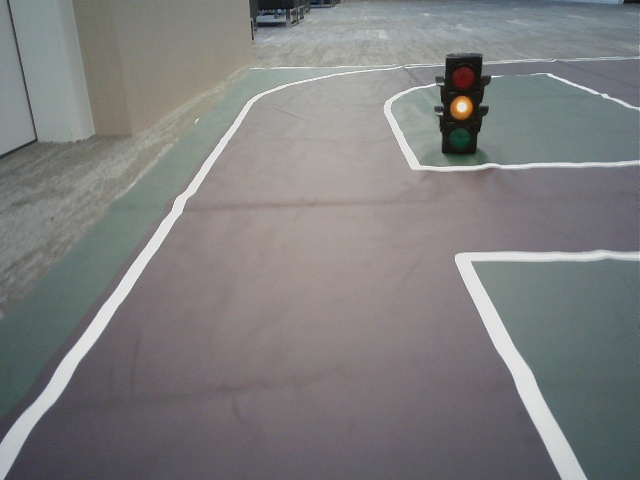yellow: (442, 60, 478, 152)
